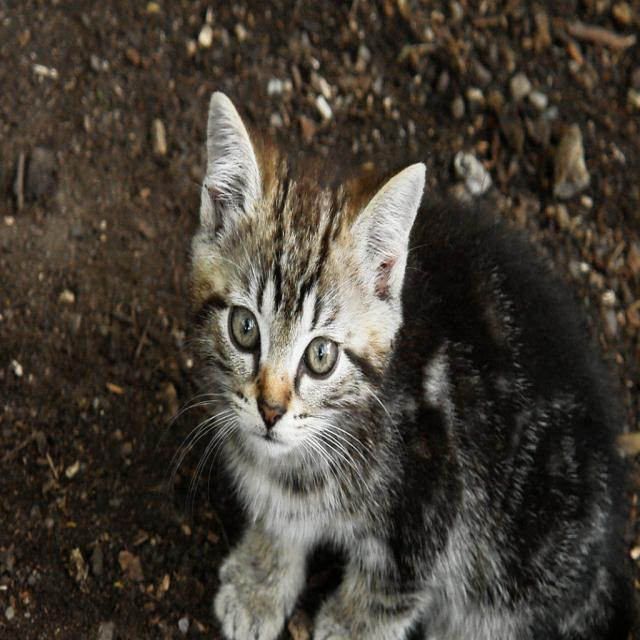cat: (161, 90, 640, 639)
